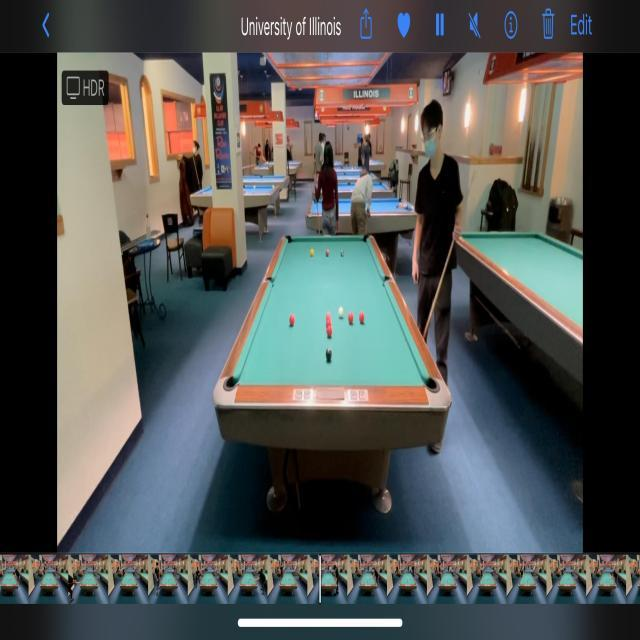Ball: (326, 348, 332, 361), (289, 313, 295, 326), (348, 312, 354, 324), (338, 307, 344, 318), (327, 326, 332, 338), (326, 320, 332, 330), (326, 312, 331, 323), (360, 312, 364, 323), (310, 248, 314, 256), (325, 248, 329, 256), (340, 248, 344, 256)
Pocket: (420, 373, 440, 394), (223, 376, 240, 391), (380, 274, 392, 286), (265, 275, 275, 288), (284, 234, 292, 244), (362, 235, 371, 243)
